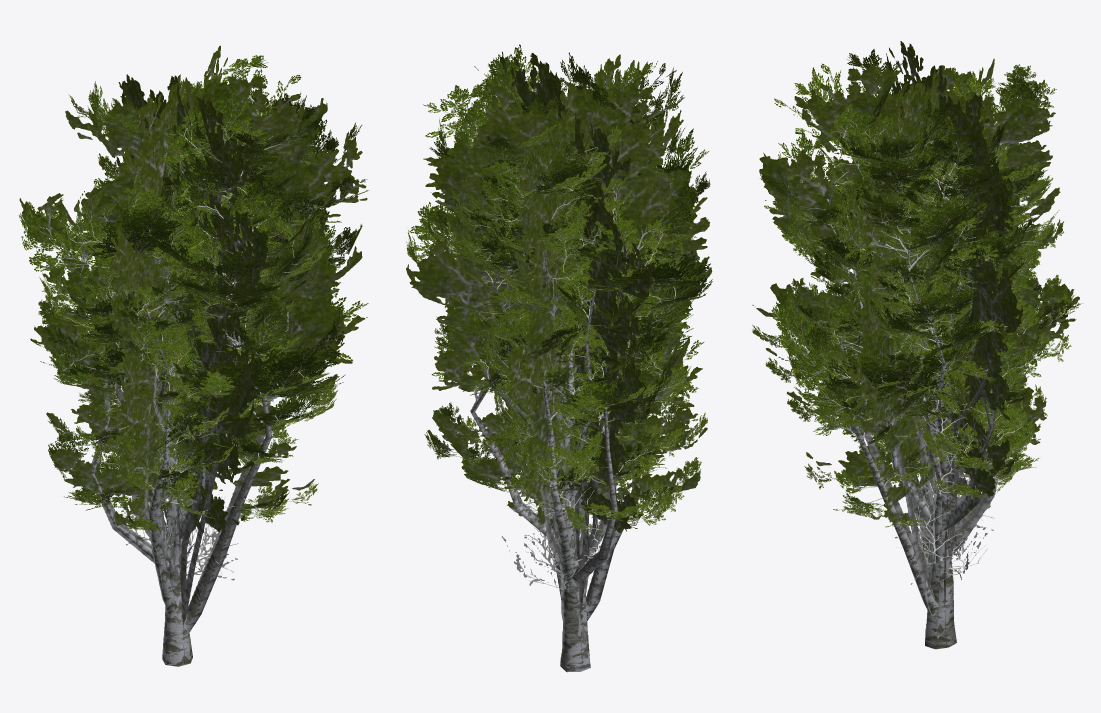
The model's file is birch.glb.
The picture shows the model from 3 angles, left to right: view 1: azimuth 30°, elevation 25°; view 2: azimuth 150°, elevation 25°; view 3: azimuth 270°, elevation 25°; orthographic projection.
Parts seen in each view (by area): view 1: Birch_B, Birch_A_far, Birch_A, Birch_C_far, Birch_B_far, Birch_C; view 2: Birch_A_far, Birch_C, Birch_B, Birch_B_far, Birch_A, Birch_C_far; view 3: Birch_A, Birch_A_far, Birch_C, Birch_B, Birch_C_far, Birch_B_far.
Boxes of the visible parts, bbox=[...] form: Birch_B: bbox=[19, 166, 368, 666]; Birch_A_far: bbox=[42, 45, 367, 620]; Birch_A: bbox=[39, 55, 368, 616]; Birch_C_far: bbox=[30, 74, 328, 664]; Birch_B_far: bbox=[19, 159, 367, 661]; Birch_C: bbox=[30, 81, 329, 664]; Birch_A_far: bbox=[406, 51, 708, 621]; Birch_C: bbox=[424, 107, 691, 672]; Birch_B: bbox=[447, 156, 712, 671]; Birch_B_far: bbox=[448, 167, 712, 667]; Birch_A: bbox=[406, 44, 710, 625]; Birch_C_far: bbox=[427, 101, 689, 647]; Birch_A: bbox=[760, 49, 1039, 574]; Birch_A_far: bbox=[759, 41, 1038, 578]; Birch_C: bbox=[785, 64, 1071, 638]; Birch_B: bbox=[752, 143, 1081, 649]; Birch_C_far: bbox=[784, 58, 1069, 640]; Birch_B_far: bbox=[752, 143, 1079, 646].
Size of the model in its own units: 7.46 by 12.92 by 6.69.
5 materials, 5 textured.
